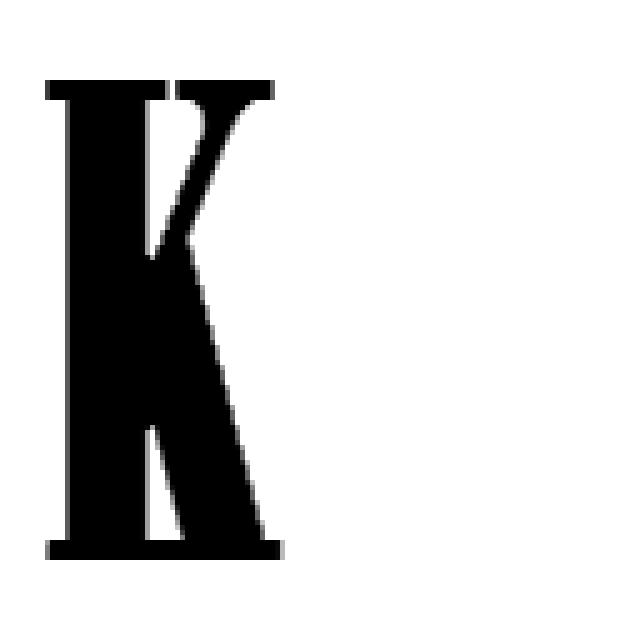K: (35, 70, 285, 565)
